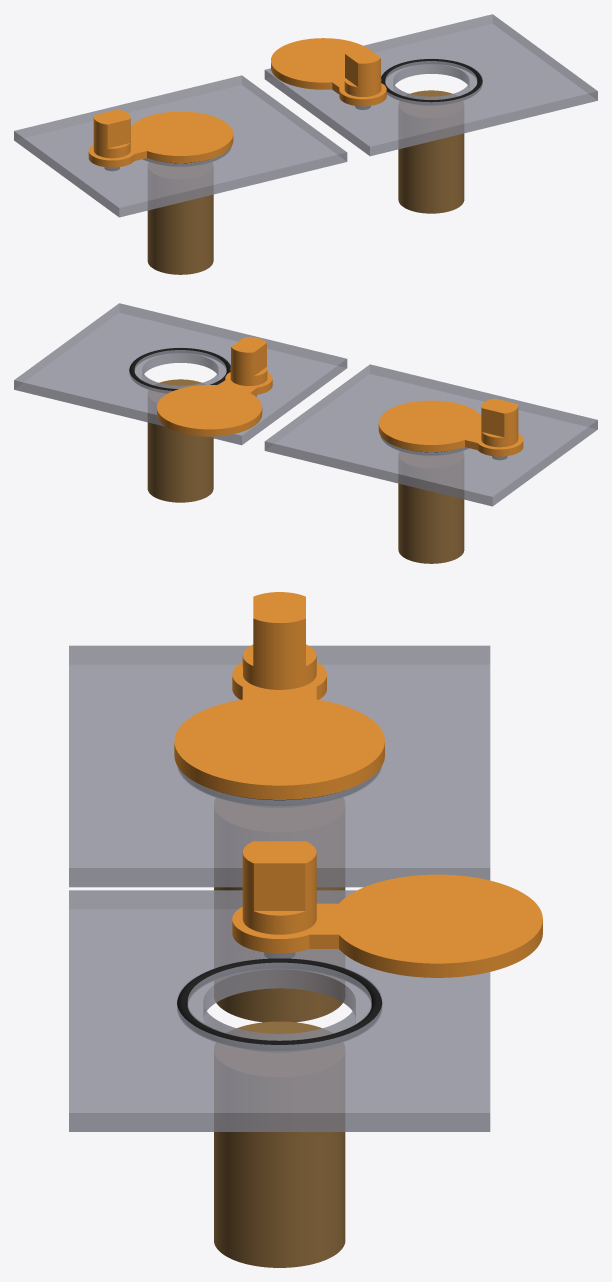
3 views of the same model, one above another, from view 1: azimuth 30°, elevation 25°; view 2: azimuth 150°, elevation 25°; view 3: azimuth 270°, elevation 25° (orthographic). The views are drawn at different scales.
Visible parts, largest first — view 1: lid_open, lid_closed, pod_open, pod_closed, cover_closed, cover_open, oring_open; view 2: lid_closed, lid_open, pod_closed, cover_closed, cover_open, pod_open, oring_open; view 3: lid_open, lid_closed, pod_open, cover_open, cover_closed, pod_closed, oring_open, oring_closed.
Part boxes in pixels (x1=…): lid_open: x1=264, y1=14, x2=597, y2=156; lid_closed: x1=14, y1=75, x2=347, y2=217; pod_open: x1=398, y1=90, x2=464, y2=213; pod_closed: x1=147, y1=163, x2=213, y2=274; cover_closed: x1=88, y1=109, x2=233, y2=167; cover_open: x1=271, y1=38, x2=386, y2=106; oring_open: x1=381, y1=59, x2=482, y2=104; lid_closed: x1=264, y1=364, x2=597, y2=506; lid_open: x1=14, y1=303, x2=347, y2=445; pod_closed: x1=398, y1=452, x2=464, y2=563; cover_closed: x1=378, y1=398, x2=523, y2=456; cover_open: x1=157, y1=337, x2=272, y2=436; pod_open: x1=147, y1=379, x2=213, y2=502; oring_open: x1=129, y1=348, x2=230, y2=392; lid_open: x1=69, y1=890, x2=490, y2=1131; lid_closed: x1=69, y1=645, x2=490, y2=887; pod_open: x1=214, y1=1021, x2=345, y2=1267; cover_open: x1=232, y1=841, x2=542, y2=977; cover_closed: x1=174, y1=592, x2=384, y2=799; pod_closed: x1=214, y1=798, x2=345, y2=1022; oring_open: x1=177, y1=958, x2=382, y2=1050; oring_closed: x1=180, y1=771, x2=378, y2=805.
Size of the model in its own units: 210 by 67.3 by 90.
